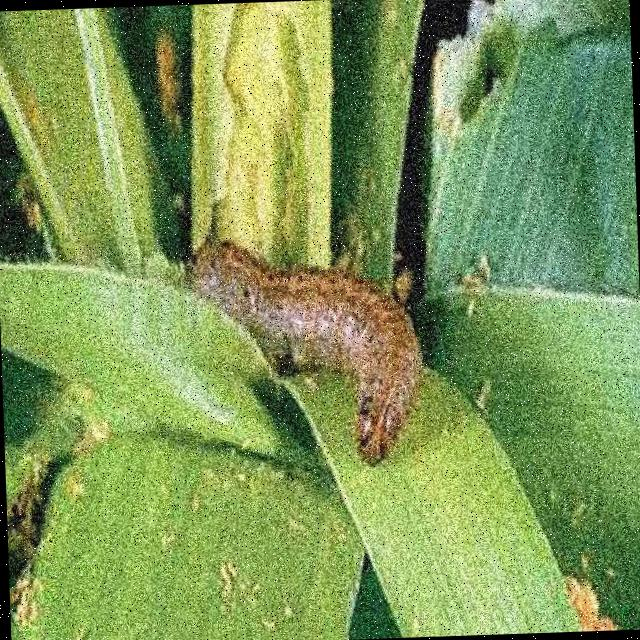worm: (188, 230, 431, 472)
